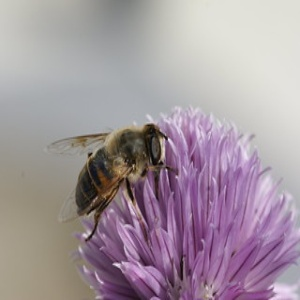bee: (43, 118, 178, 250)
